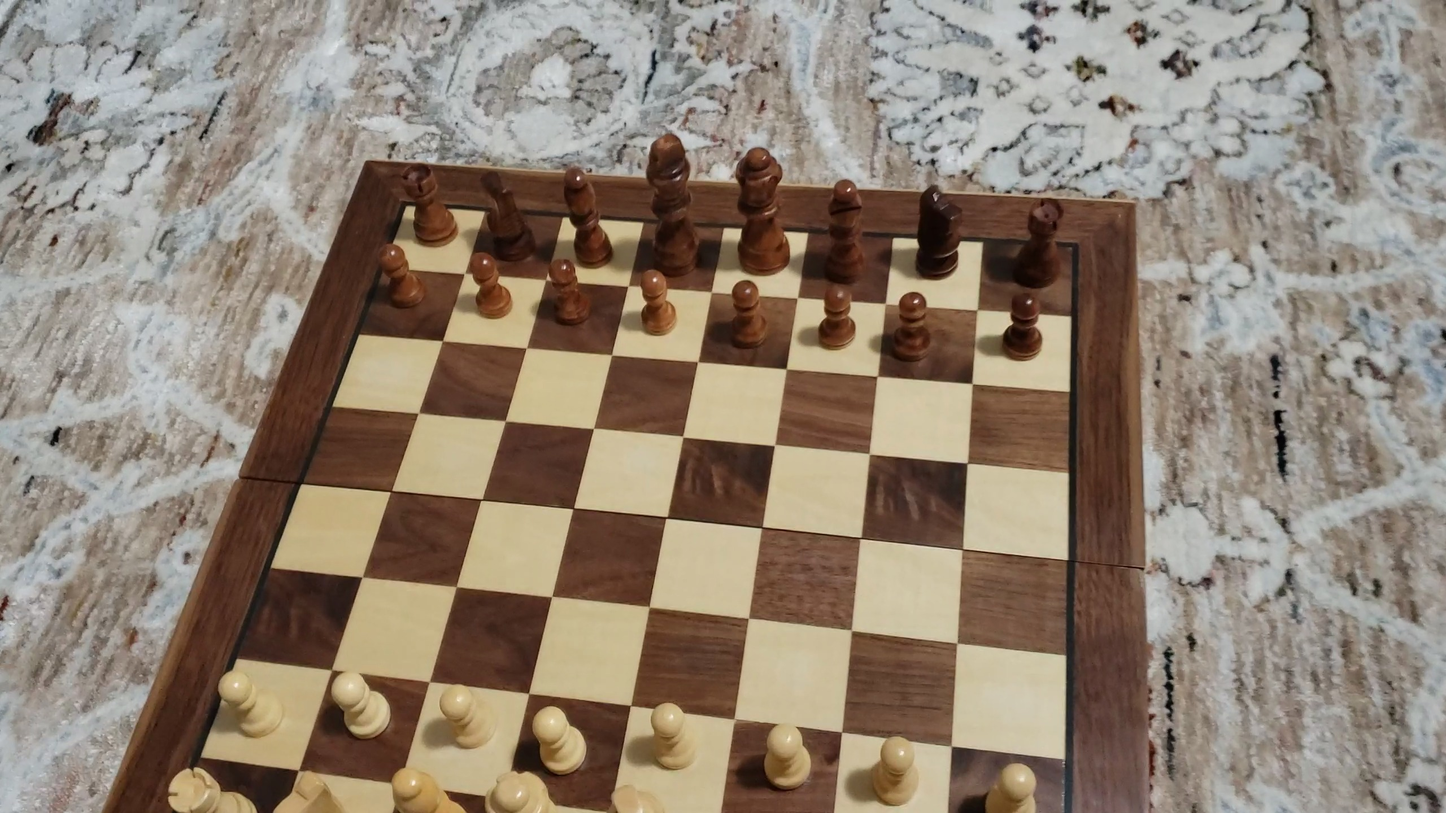black-bishop: (563, 163, 615, 269), (823, 179, 866, 285)
black-king: (646, 132, 699, 276)
black-knight: (480, 170, 537, 265), (912, 182, 960, 281)
black-pawn: (988, 290, 1055, 372), (378, 242, 426, 309), (549, 256, 591, 327), (469, 250, 513, 317), (892, 290, 930, 361), (730, 277, 767, 348), (640, 268, 676, 336), (817, 282, 853, 350)
black-queen: (733, 144, 786, 277)
black-rook: (1012, 197, 1065, 291), (402, 162, 458, 247)
white-pawn: (218, 667, 284, 738), (533, 703, 588, 776), (330, 670, 388, 739), (440, 682, 497, 748), (871, 734, 919, 806), (763, 722, 810, 793), (651, 700, 697, 768), (984, 761, 1038, 813)
